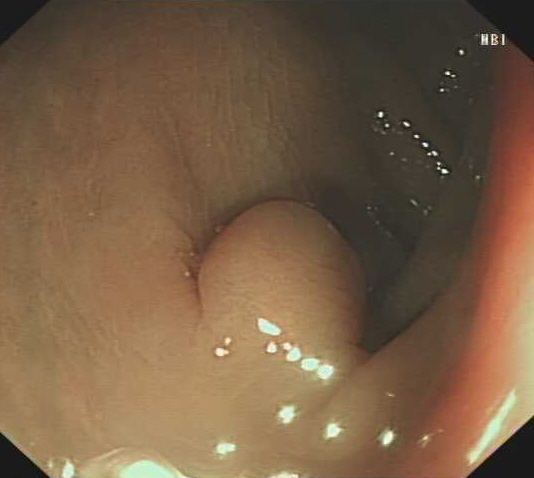others: (191, 193, 367, 355)
